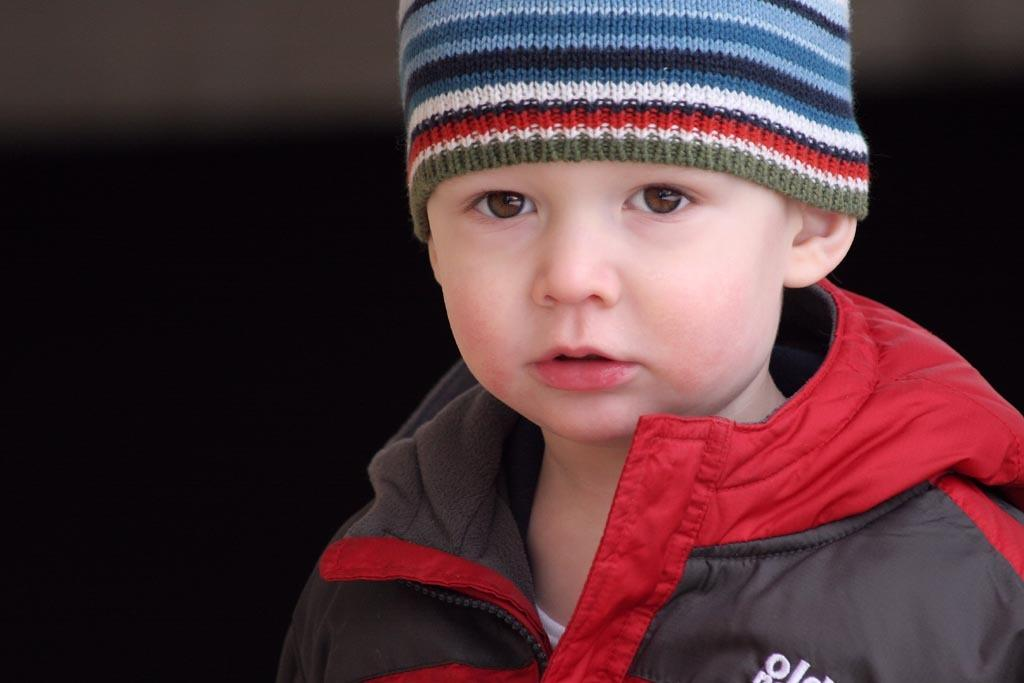Sem Máscara: (437, 160, 754, 427)
